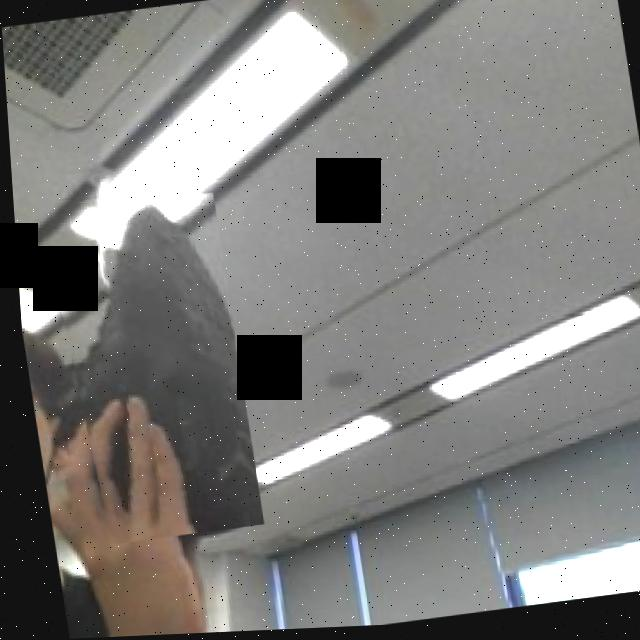shoe: (36, 184, 257, 548)
